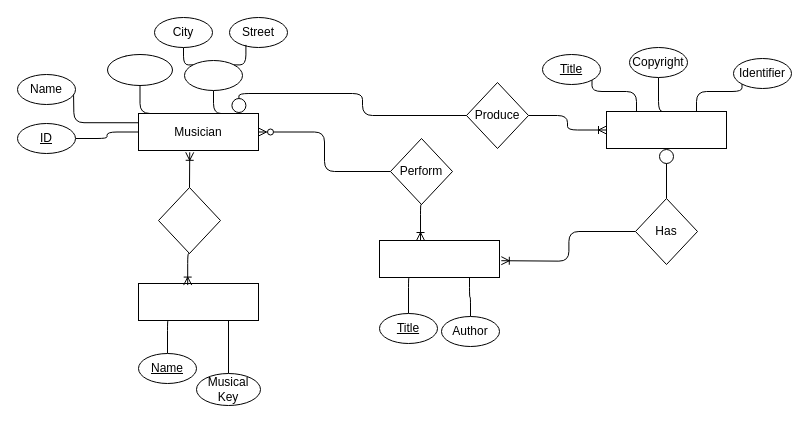
The diagram is 809 pixels wide and 423 high, and some of its shapes have lost their labels. The centre of each missing label's shape, as x and y in pixels:
"Address" goes at pixel 213 75.
"Album" goes at pixel 666 129.
"Instrument" goes at pixel 198 301.
"Phone Number" goes at pixel 139 70.
"Play" goes at pixel 189 220.
"Song" goes at pixel 439 259.
